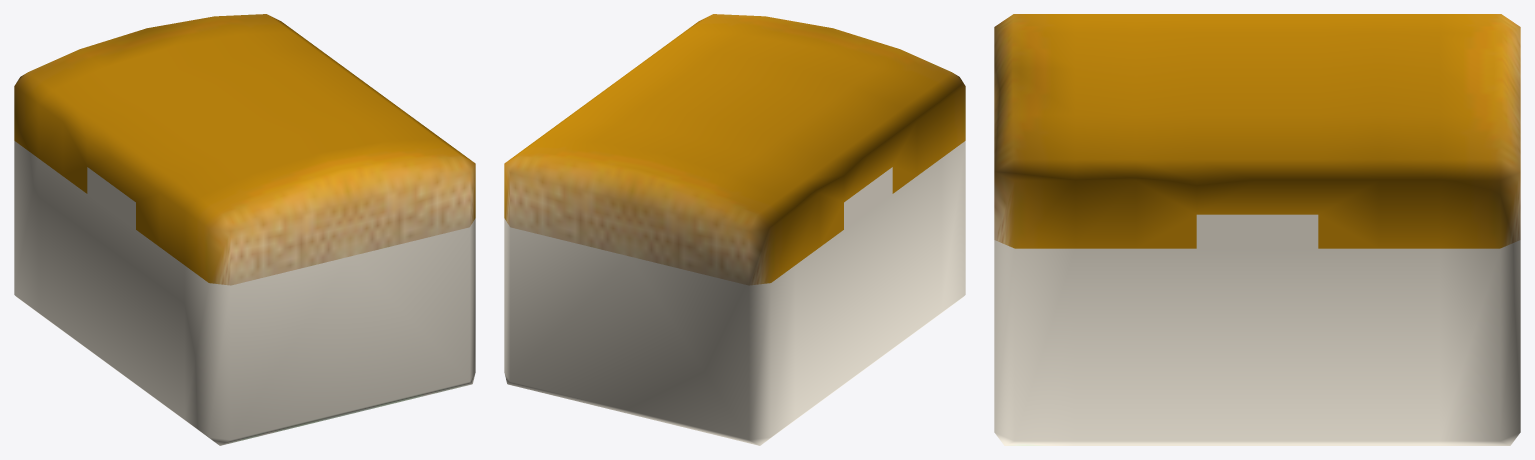
The model's file is icon2.ico.obj.
3 views of the same model, side by side, from view 1: azimuth 30°, elevation 25°; view 2: azimuth 150°, elevation 25°; view 3: azimuth 270°, elevation 25° (orthographic). The views are drawn at different scales.
Size of the model in its own units: 3.38 by 2.92 by 4.63.
1 material, 1 textured.
